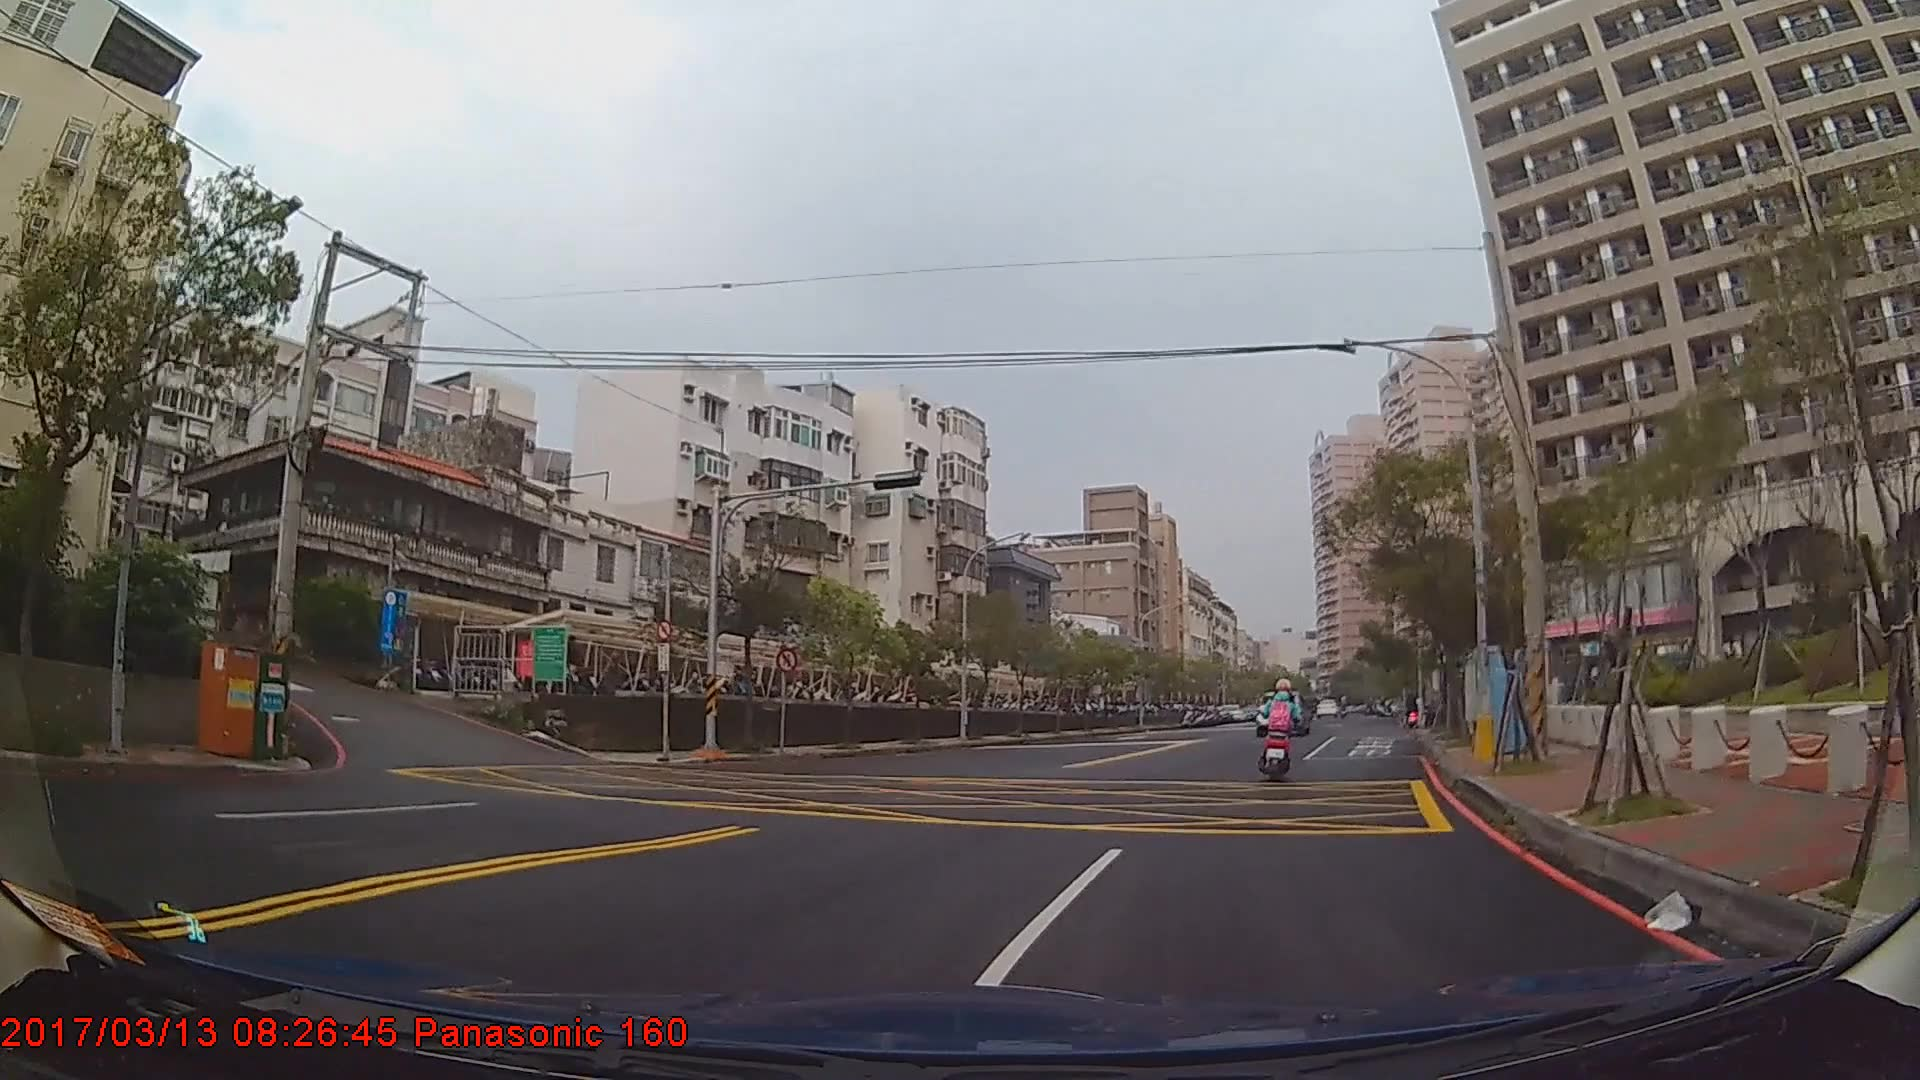rider: (1258, 679, 1305, 780)
vehicle: (1251, 687, 1309, 735)
